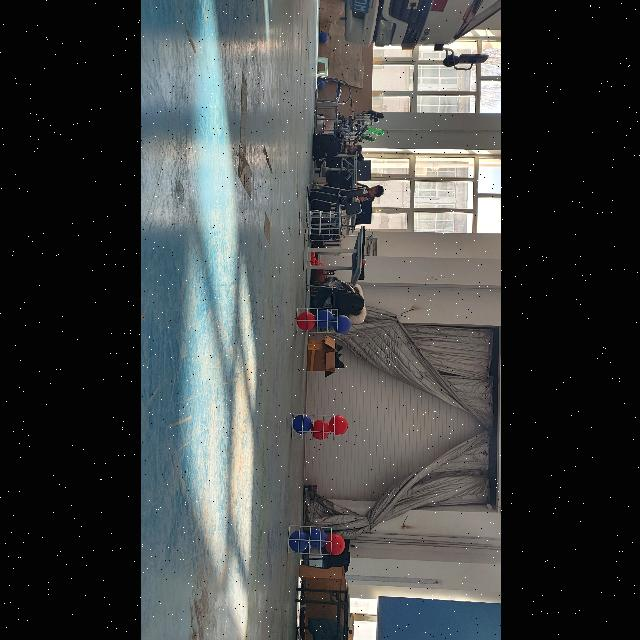B: (288, 531, 308, 553), (330, 314, 350, 334), (292, 414, 310, 436), (308, 528, 326, 548), (315, 310, 333, 326)
R: (324, 534, 344, 556), (296, 311, 316, 331), (328, 417, 346, 438), (310, 418, 328, 439)
S: (282, 522, 334, 560), (288, 410, 338, 448), (293, 304, 341, 336), (295, 210, 341, 238)
